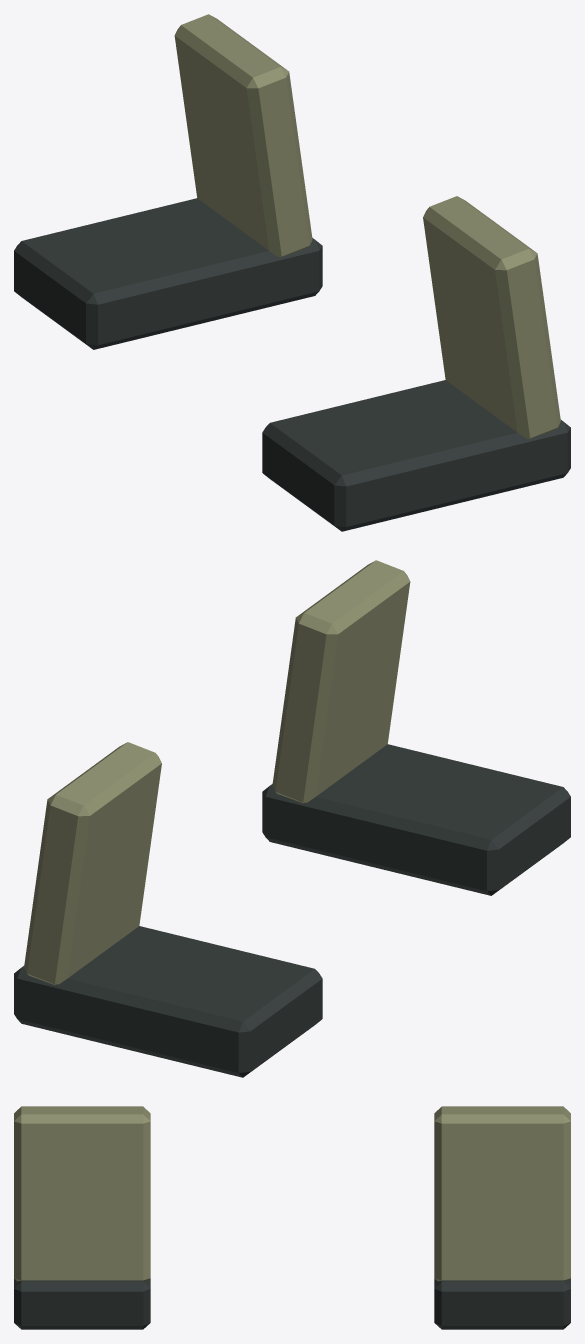
File: Cockpit_Fittings.glb
3 views of the same model, one above another, from view 1: azimuth 30°, elevation 25°; view 2: azimuth 150°, elevation 25°; view 3: azimuth 270°, elevation 25° (orthographic). The views are drawn at different scales.
Visible parts, largest first — view 1: Cockpit_Fittings; view 2: Cockpit_Fittings; view 3: Cockpit_Fittings.
Boxes of the visible parts, <box> form: Cockpit_Fittings: <box>14,14,570,531</box>; Cockpit_Fittings: <box>14,560,570,1077</box>; Cockpit_Fittings: <box>14,1106,570,1329</box>.
Bounding box in the file's own units: 1.1 × 1.05 × 2.65.
